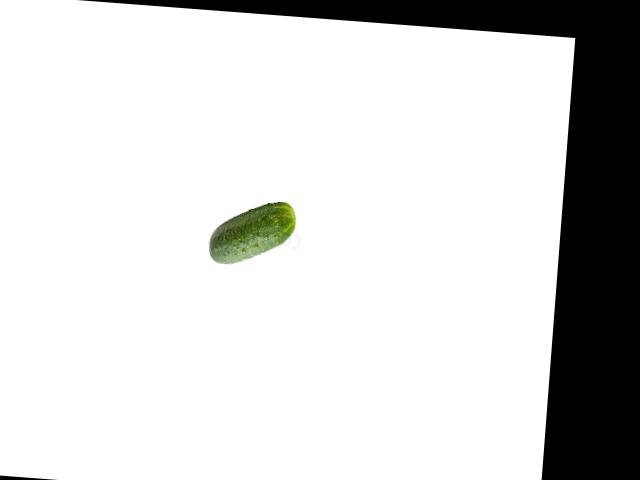cucumber: (207, 197, 296, 269)
